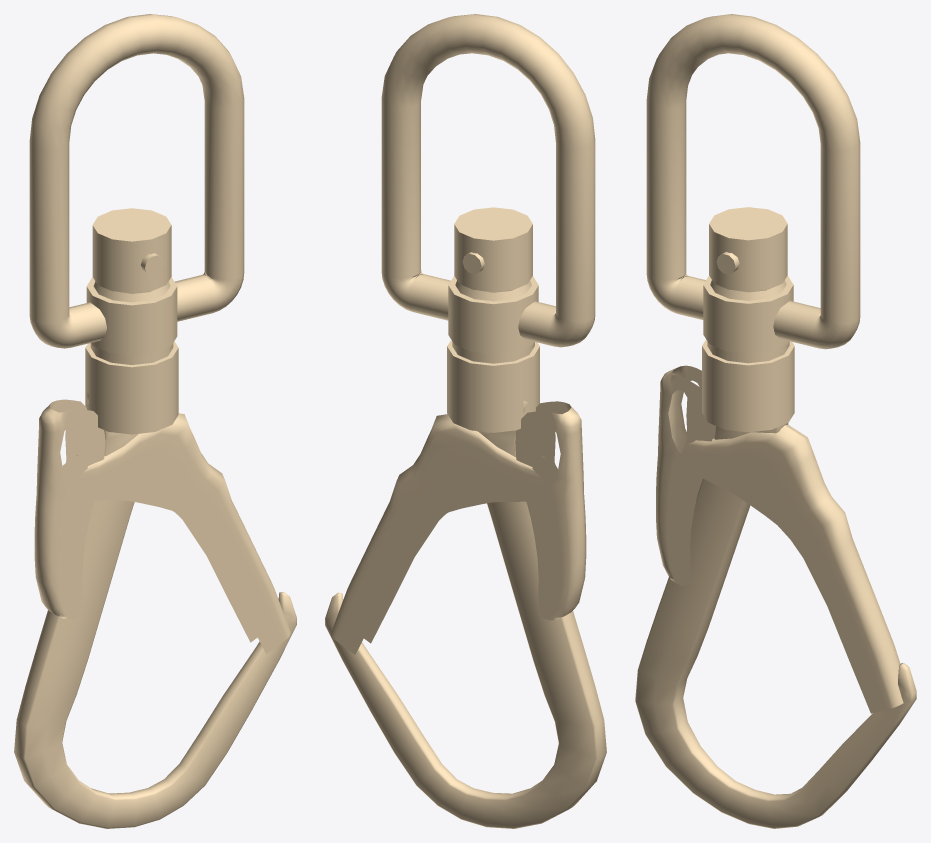
File: RetractableHook.fbx
3 renders of one model, left to right at view 1: azimuth 30°, elevation 25°; view 2: azimuth 150°, elevation 25°; view 3: azimuth 330°, elevation 25°, orthographic.
Parts seen in each view (by area): view 1: SM_Retractable_fall .001; view 2: SM_Retractable_fall .001; view 3: SM_Retractable_fall .001.
Boxes of the visible parts, bbox=[...] form: SM_Retractable_fall .001: bbox=[14, 14, 296, 828]; SM_Retractable_fall .001: bbox=[325, 14, 606, 828]; SM_Retractable_fall .001: bbox=[635, 14, 916, 828].
Size of the model in its own units: 12.53 by 34.97 by 3.65.
